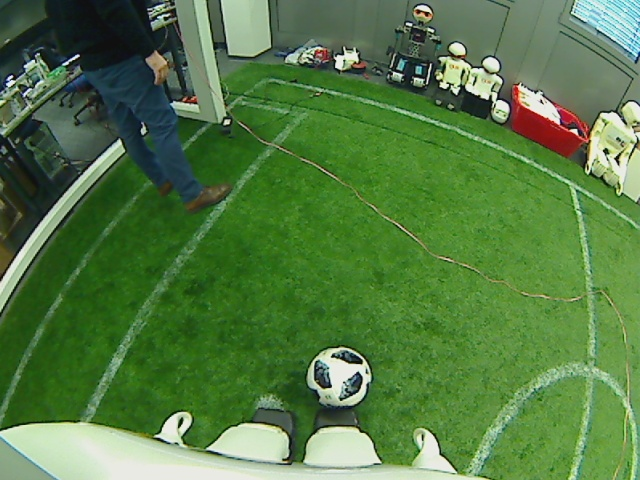ball: (307, 343, 370, 409)
